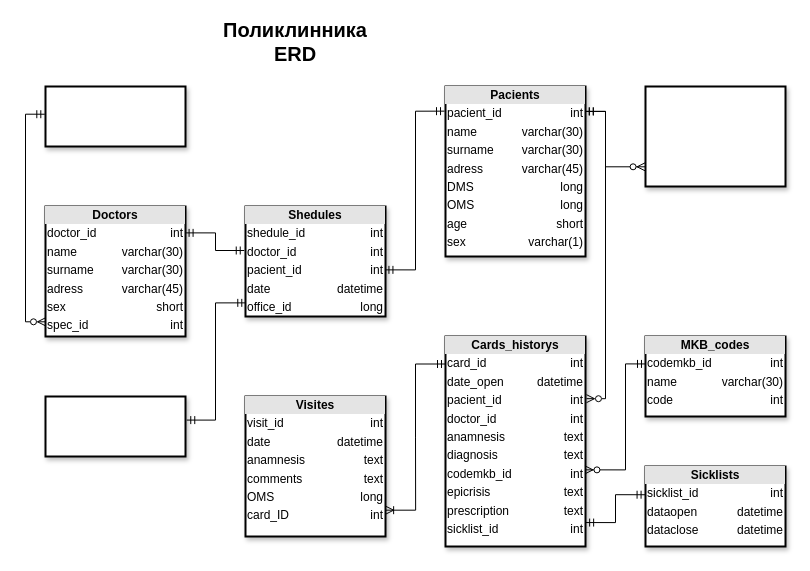
This 810x571 diagram has some shape labels left out. The shapes that lost their labels are listed below. From the top down, each one's centre as x and y in pixels, then its label:
At (116,117): "Specialists spec_id int name varchar(30)".
At (716,137): "Analyzes analysis_id int type varchar(30) result text pacient_id int".
At (116,427): "Office ID int name varchar(30)".
